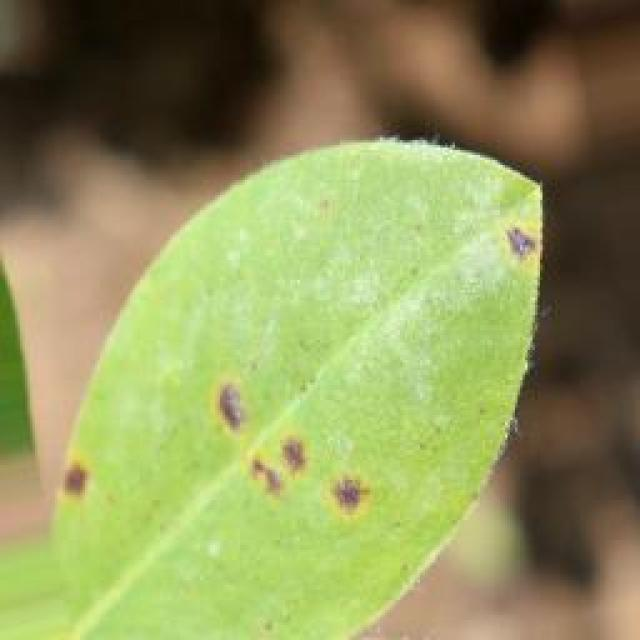Sigatoka: (184, 363, 374, 530), (468, 187, 565, 278), (39, 452, 143, 514)
